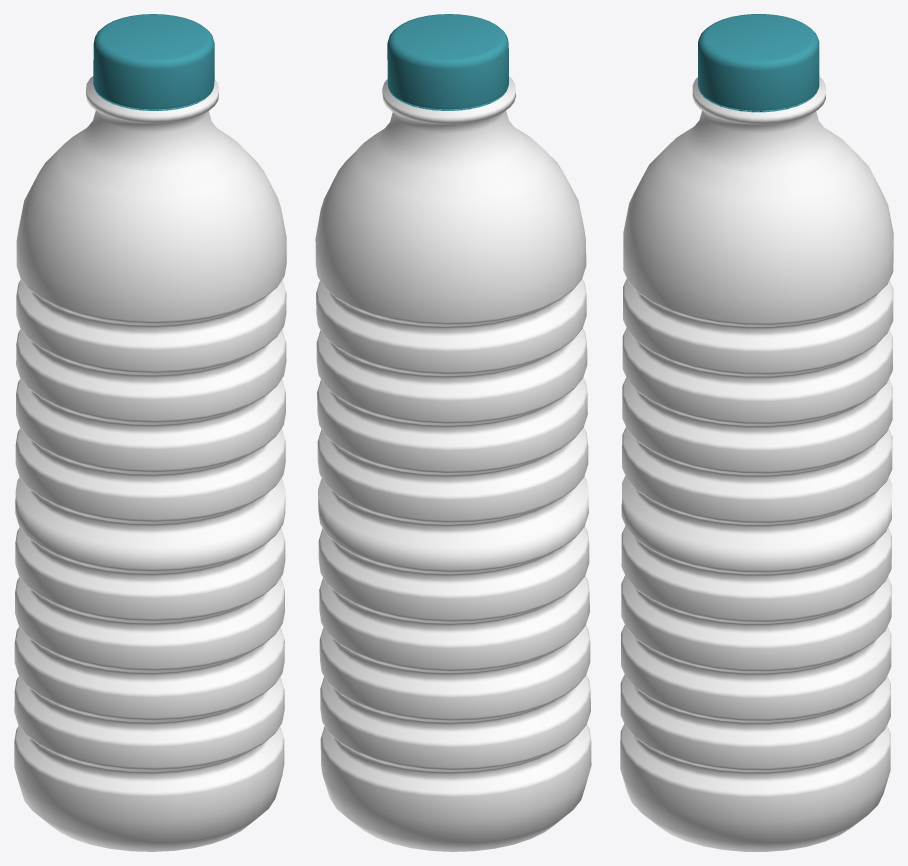
The model's file is bottle.gltf.
3 views of the same model, side by side, from view 1: azimuth 30°, elevation 25°; view 2: azimuth 150°, elevation 25°; view 3: azimuth 270°, elevation 25° (orthographic).
Parts seen in each view (by area): view 1: Object_2, Object_3; view 2: Object_2, Object_3; view 3: Object_2, Object_3.
Part boxes in pixels (x1,y1,x2,y2): Object_2: (14, 76, 286, 851); Object_3: (93, 14, 214, 110); Object_2: (315, 76, 591, 851); Object_3: (387, 14, 508, 110); Object_2: (620, 76, 893, 851); Object_3: (698, 14, 819, 112).
Size of the model in its own units: 9.13 by 28.52 by 9.07.
